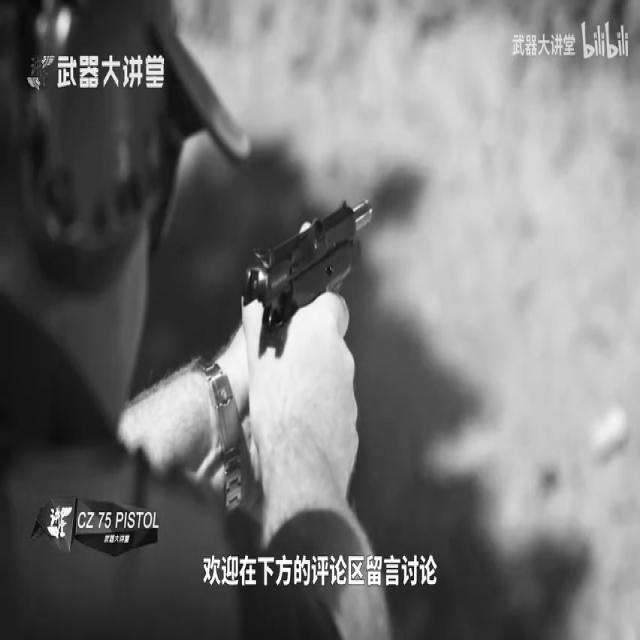Hand-Gun: (208, 133, 404, 490)
